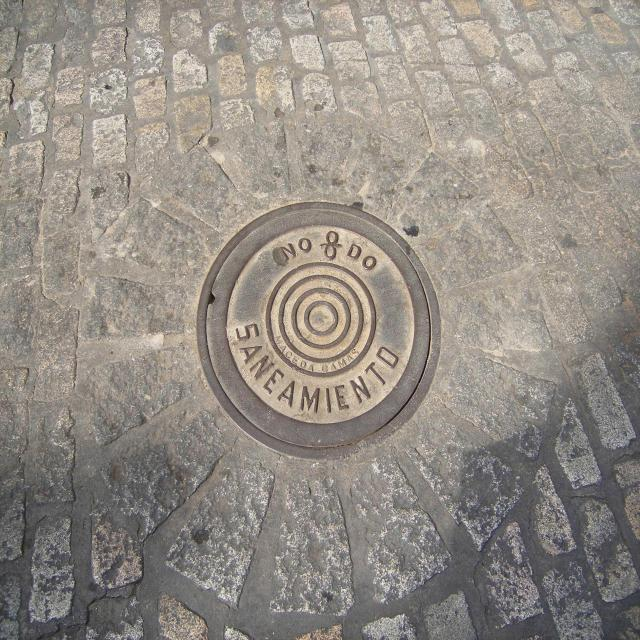manhole: (198, 202, 440, 458)
